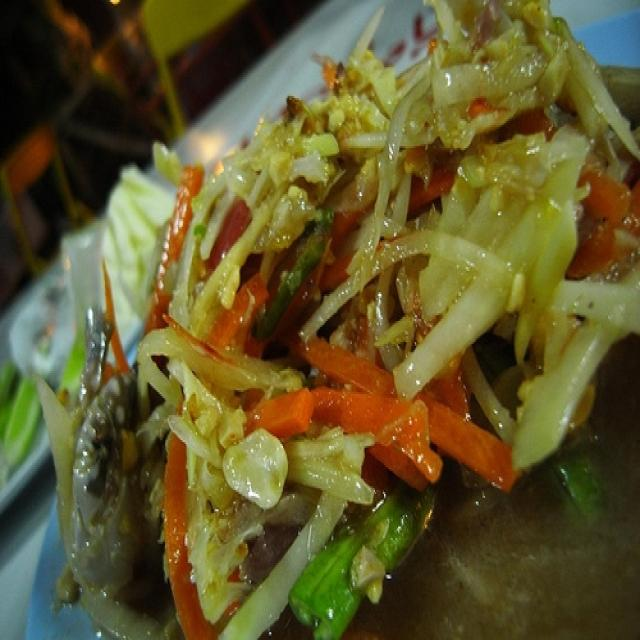蔬菜料理: (36, 15, 619, 623)
